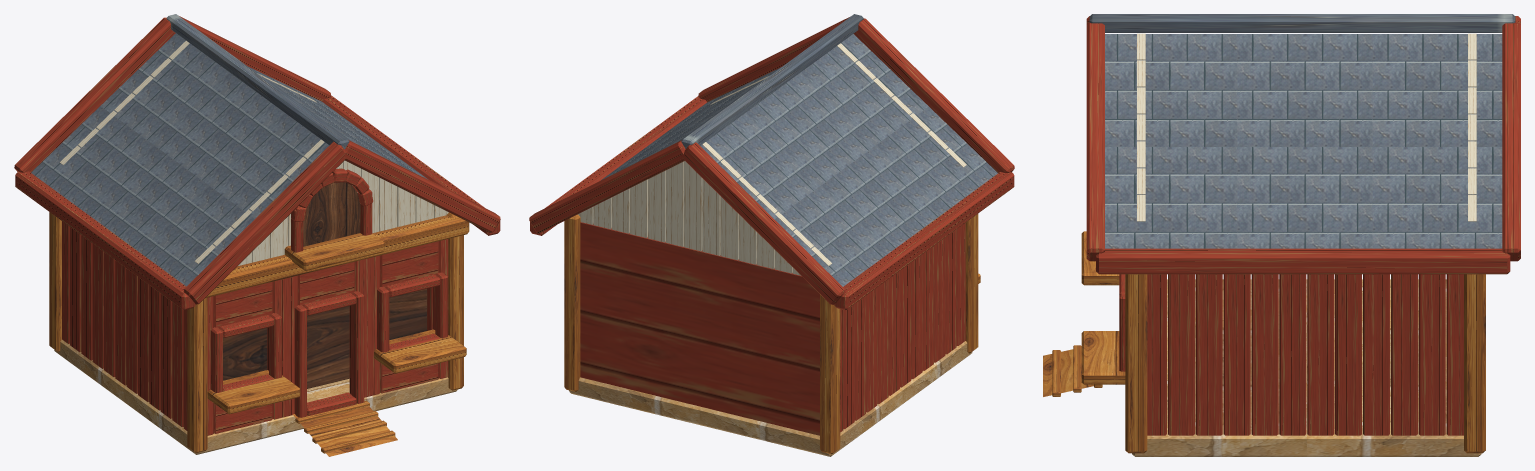
The model's file is ChickenCoop_Companion_Cozy_LOD1.fbx.
3 views of the same model, side by side, from view 1: azimuth 30°, elevation 25°; view 2: azimuth 150°, elevation 25°; view 3: azimuth 270°, elevation 25° (orthographic). The views are drawn at different scales.
Visible parts, largest first — view 1: ChickenCoop_Companion_Cozy_LOD1; view 2: ChickenCoop_Companion_Cozy_LOD1; view 3: ChickenCoop_Companion_Cozy_LOD1.
Part boxes in pixels (left/top/right/bottom): ChickenCoop_Companion_Cozy_LOD1: left=14, top=14, right=500, bottom=456; ChickenCoop_Companion_Cozy_LOD1: left=529, top=14, right=1014, bottom=456; ChickenCoop_Companion_Cozy_LOD1: left=1043, top=14, right=1520, bottom=456.
Size of the model in its own units: 3.68 by 3.27 by 3.9.
